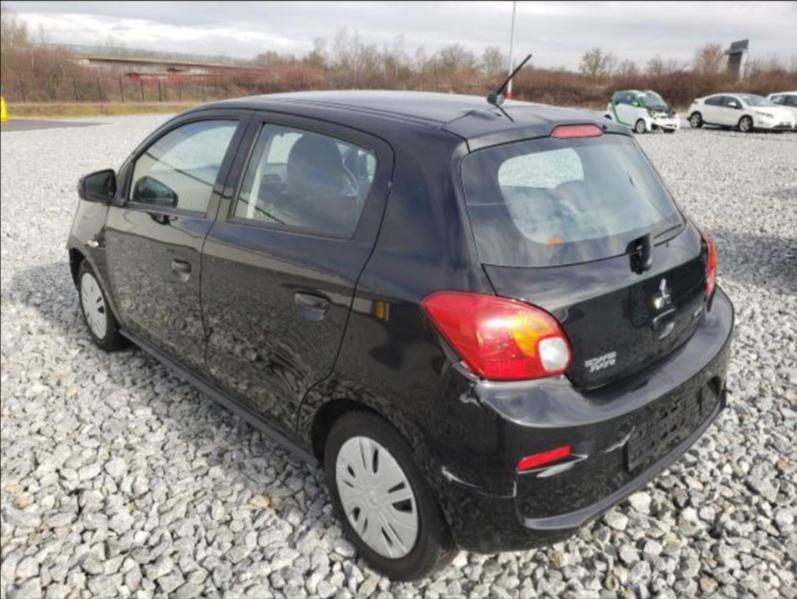Broken part: (412, 283, 737, 551)
Missing part: (631, 391, 700, 463)
Scratch: (440, 463, 517, 499), (517, 453, 588, 478), (440, 463, 479, 492), (455, 379, 485, 408), (603, 426, 635, 452), (506, 479, 519, 497)
